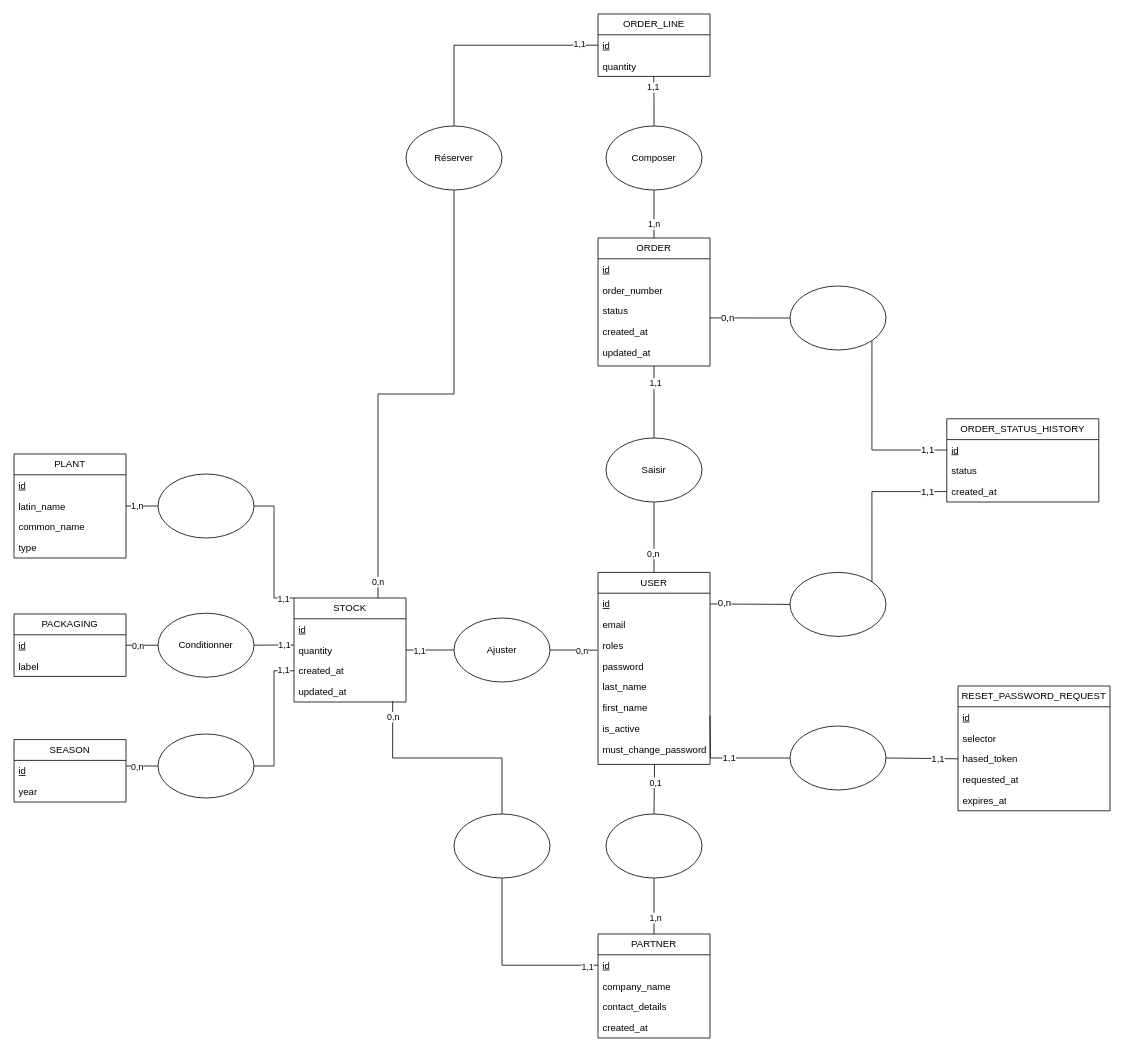
The diagram is 1124 pixels wide and 1054 high, and some of its shapes have lost their labels. Each missing label, with the centre of its shape:
"Actualiser" belongs at [837,604].
"Demander" belongs at [837,757].
"Fournir" belongs at [501,845].
"Rattacher" belongs at [653,845].
"Référencer" belongs at [205,505].
"Saisonnaliser" belongs at [205,765].
"Tracer" belongs at [837,317].
